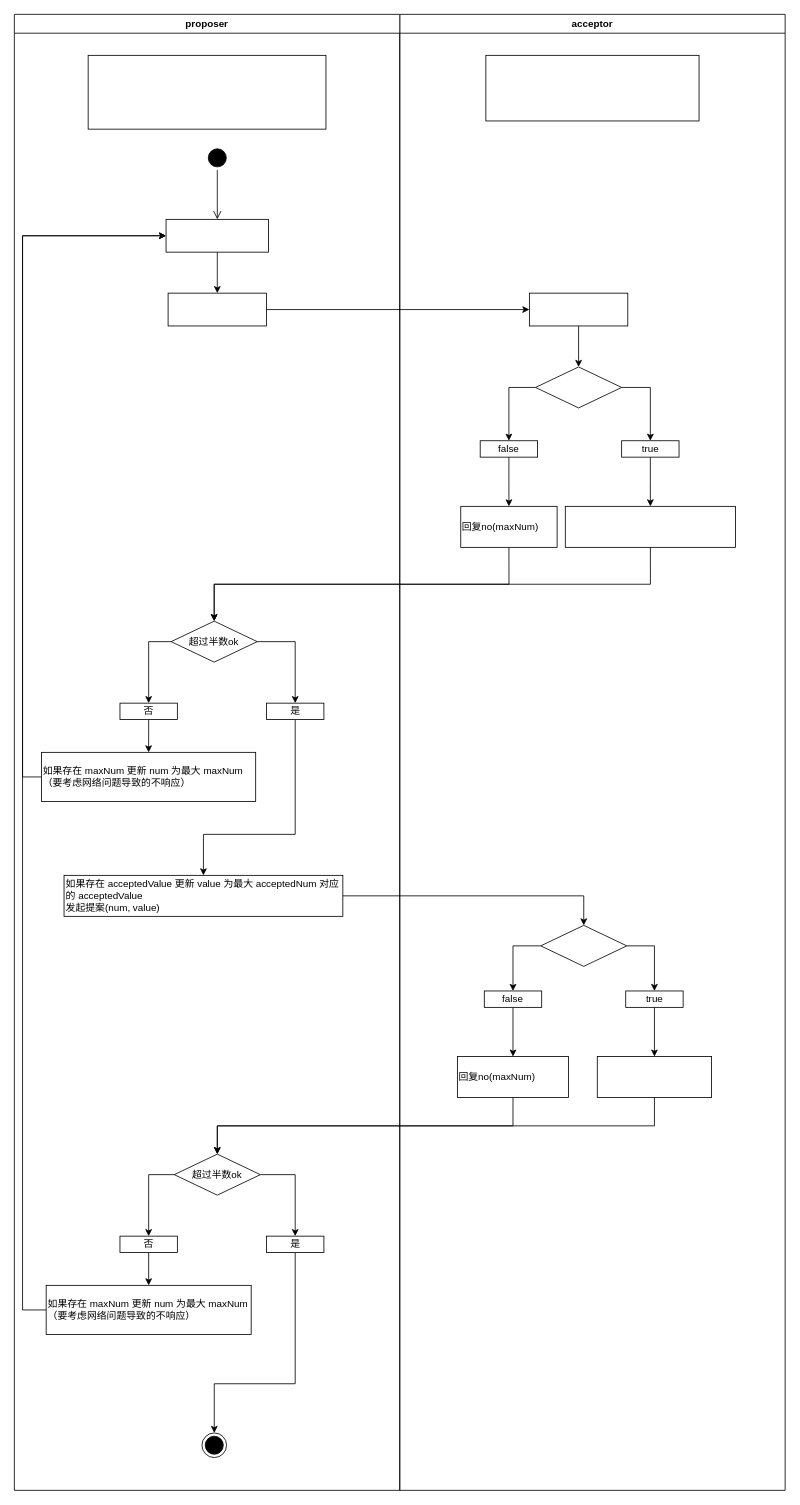
The diagram is 800 pixels wide and 1505 high, and some of its shapes have lost their labels. Here are the shapes that lost their labels. From the top down, the centre of each, then its label:
the point at 206,92: 初始化： num：提案编号，每一轮的开始初始化为0 value：提案内容
the point at 592,88: 初始化： maxNum：已许可的最大提案编号 acceptedNum：当前接收的提案编号 acceptedValue ： 当前接收的提案内容
the point at 217,235: 更新提案编号：num++
the point at 216,309: 向所有服务器请求编号为 num 的提案许可
the point at 578,309: 收到请求编号为 num 的提案许可请求
the point at 578,387: num > maxNum
the point at 649,526: maxNum = num 回复ok(acceptedNum, acceptedValue)
the point at 583,945: num == maxNum
the point at 654,1077: acceptedNum = num acceptedValue = value 回复ok
